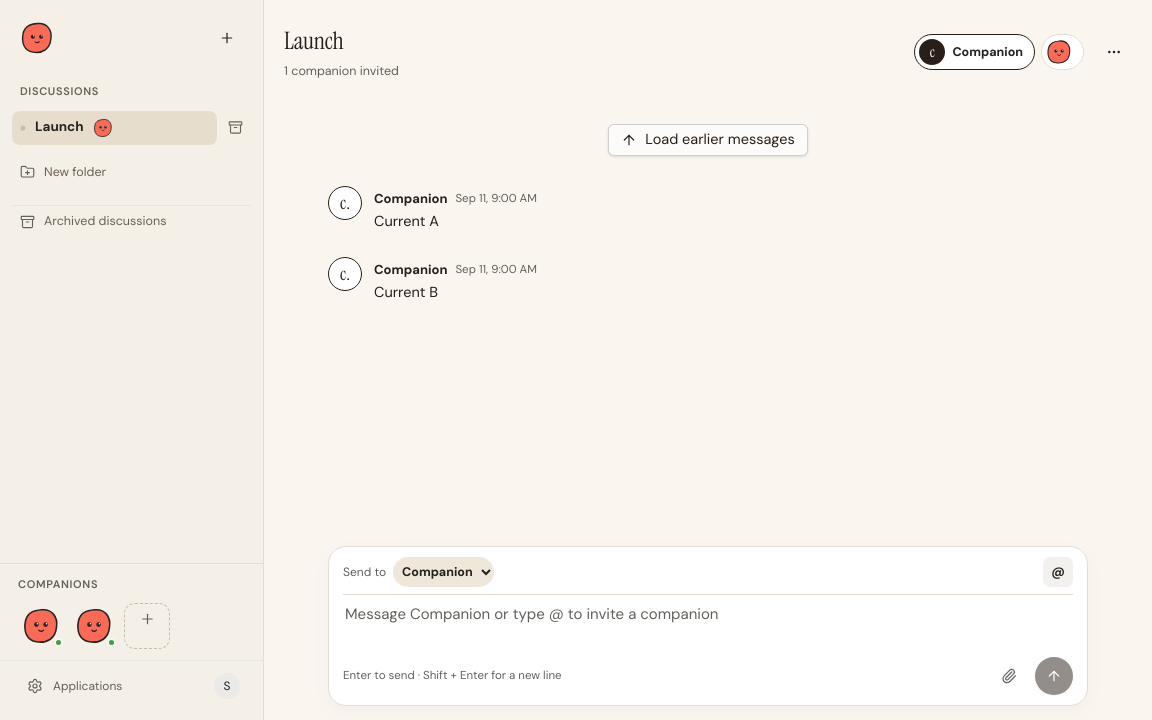
it: retains messages displaced by polling and orders large decimal sequences exactly
expect the text "Current A" is shown: met, box [374,212,439,230]
Click the button "Load earlier messages" at x=708, y=140, box [608,124,808,156]
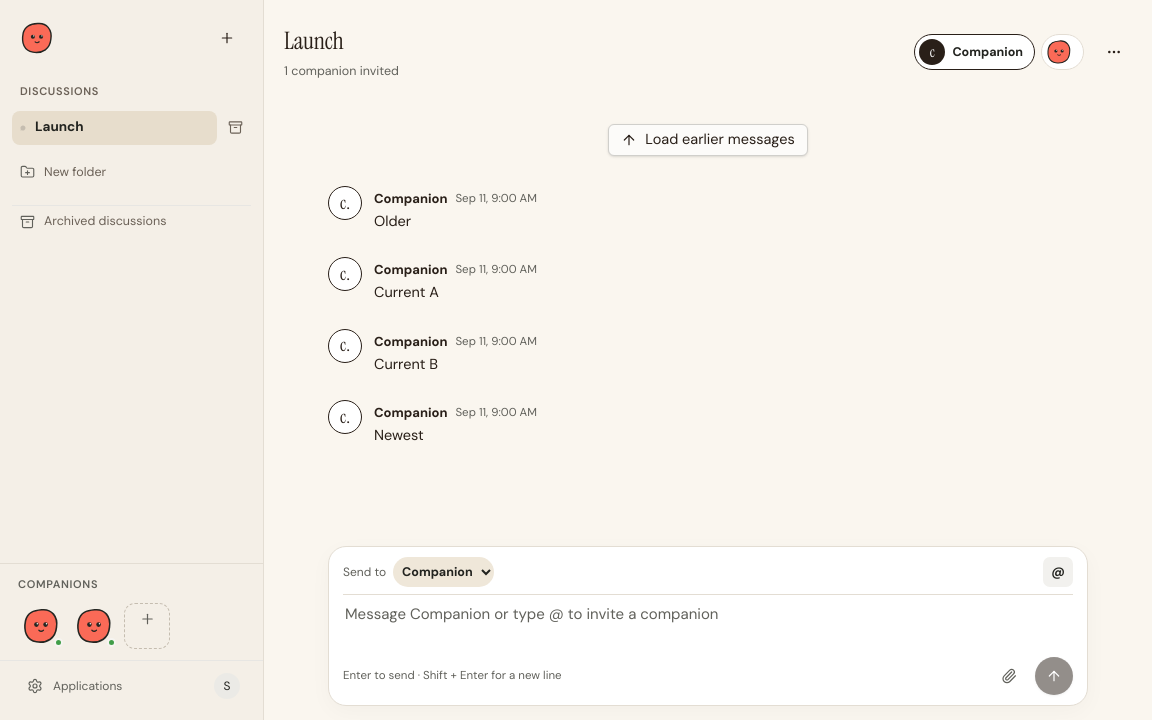
expect the text "Current A" is shown: met, box [374,284,439,302]
expect the text "Older" is shown: met, box [374,212,411,230]
expect the text "Newest" is shown: met, box [374,426,424,444]
Click the button "Load earlier messages" at x=708, y=140, box [608,124,808,156]
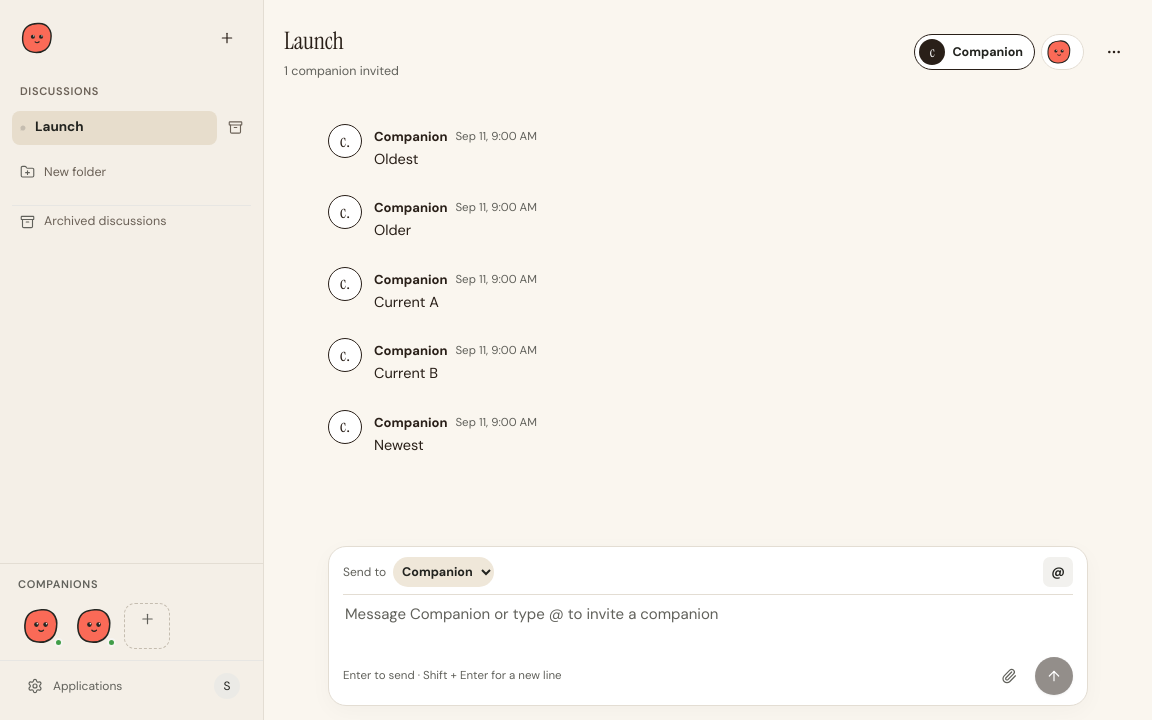
expect the text "Oldest" is shown: met, box [374,150,418,168]
expect the button "Load earlier" is gone: met
